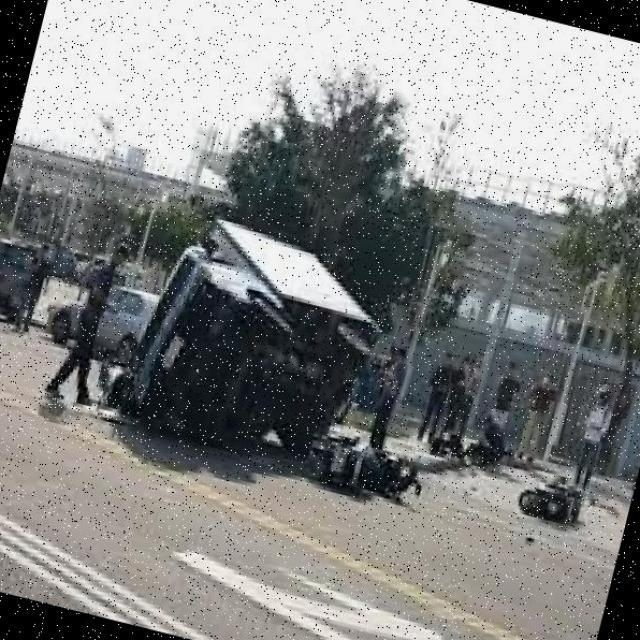accident: (111, 196, 389, 497), (292, 408, 444, 531), (509, 461, 606, 541)
